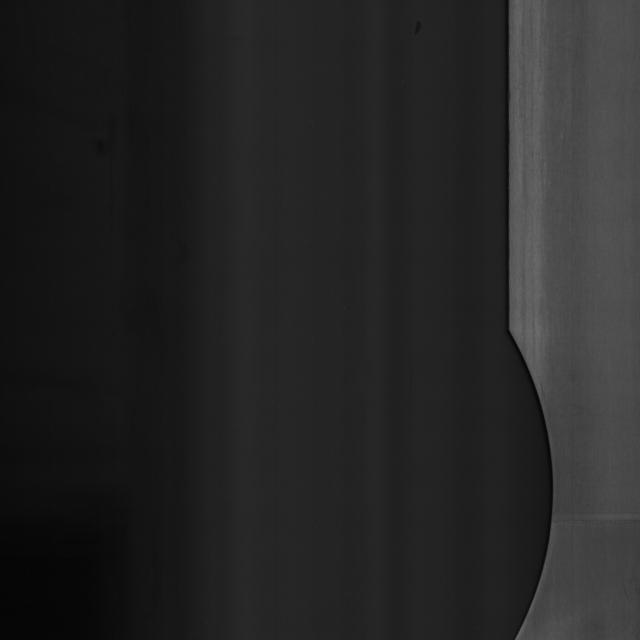crease: (546, 492, 640, 538)
silk_spot: (488, 312, 562, 639)
